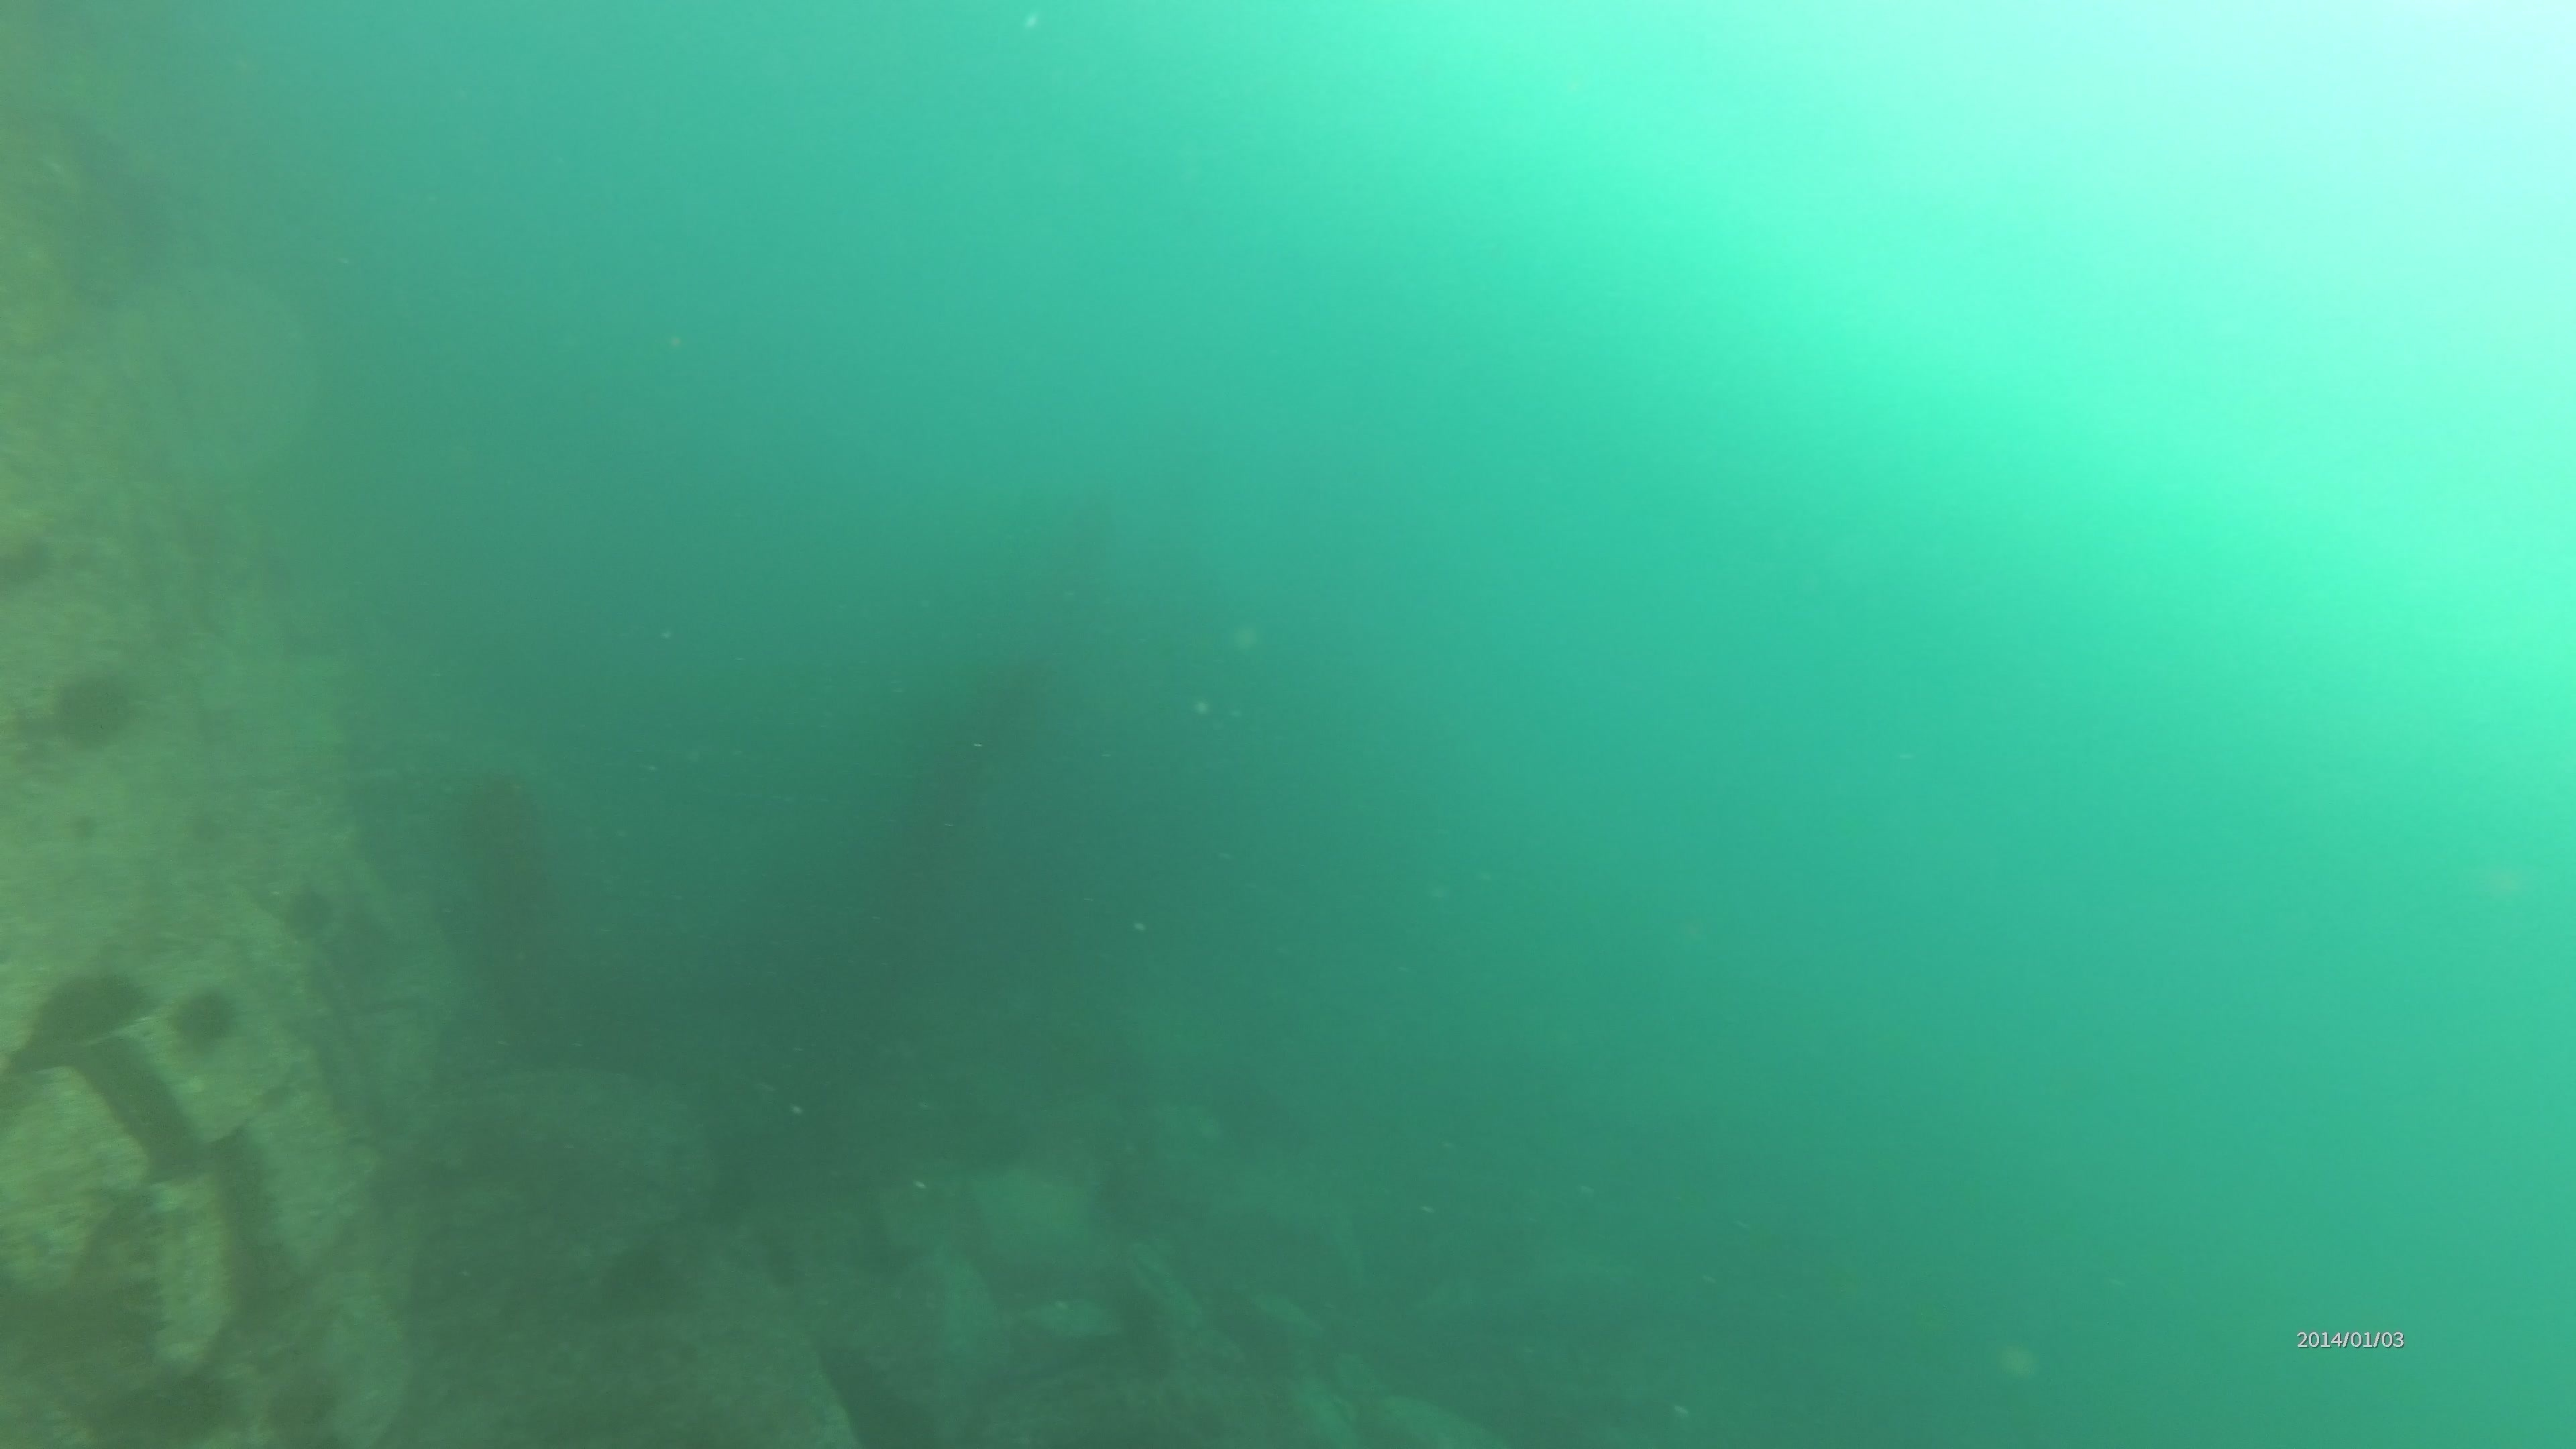echinus: (21, 959, 152, 1063), (42, 660, 145, 755), (593, 1233, 697, 1322), (165, 978, 246, 1060), (276, 876, 343, 945)
